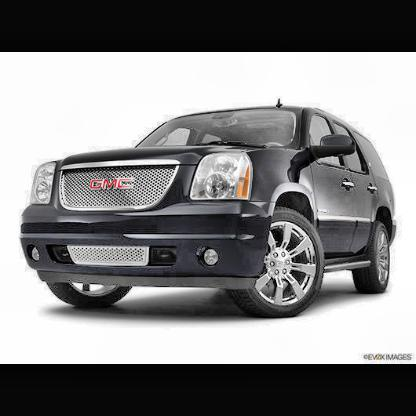GMC Yukon Hybrid SUV 2012: (21, 100, 399, 320)
